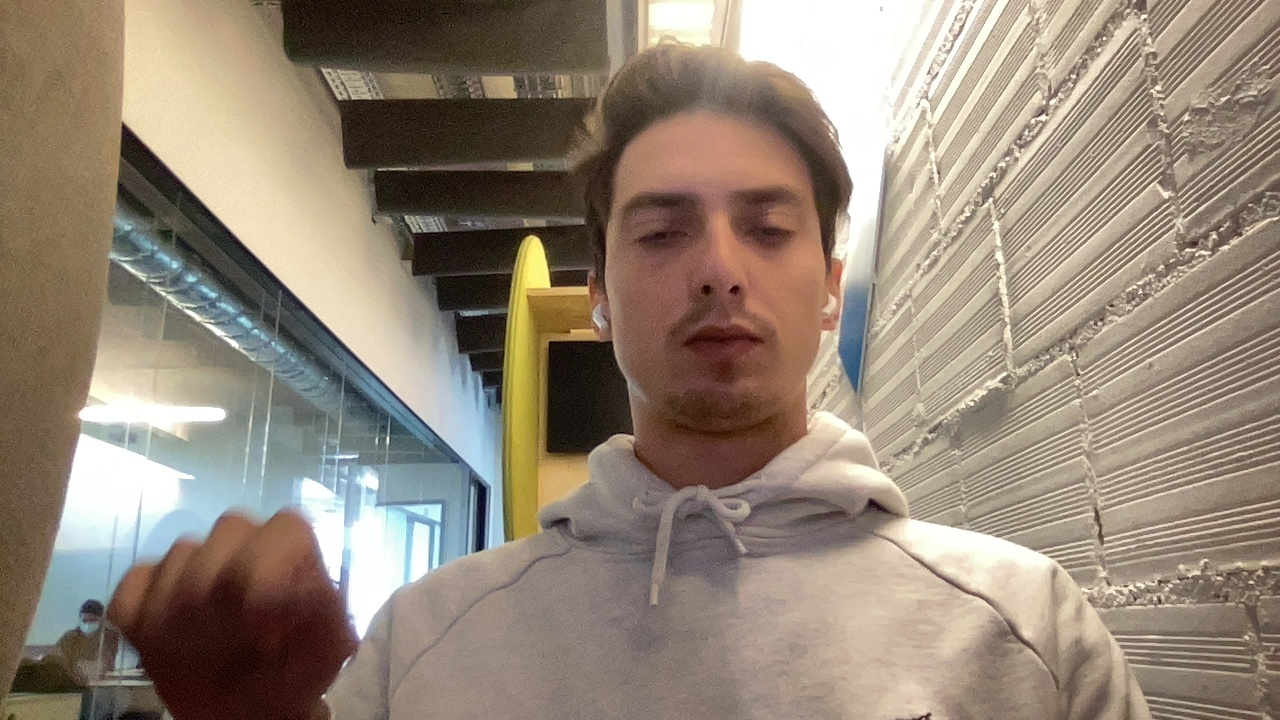yes: (76, 510, 383, 718)
